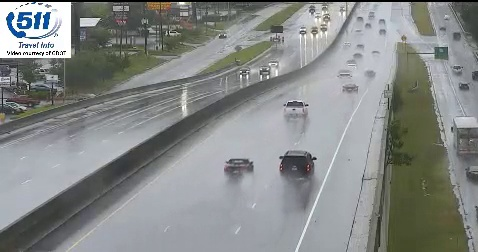car: (280, 150, 314, 178), (225, 158, 253, 178), (284, 99, 307, 117)
